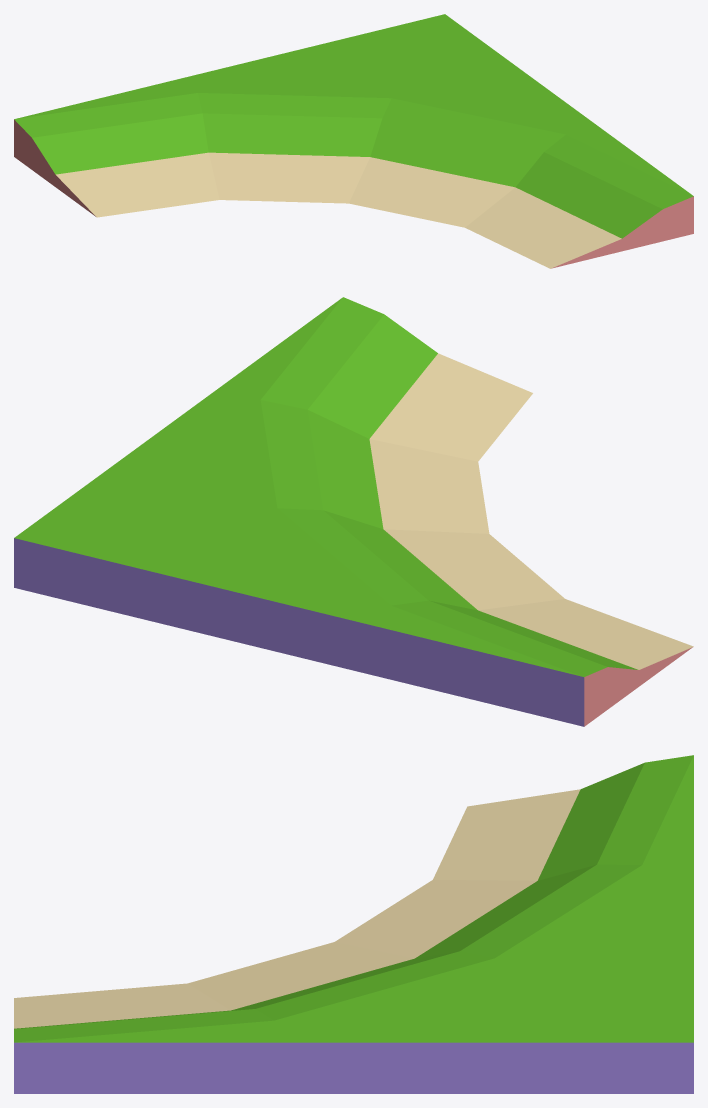
The model's file is Path_Terrain_Basic_Curve_Inner_3x3.glb.
The picture shows the model from 3 angles, top to bottom: view 1: azimuth 30°, elevation 25°; view 2: azimuth 150°, elevation 25°; view 3: azimuth 270°, elevation 25°; orthographic projection. The views are drawn at different scales.
Visible parts, largest first — view 1: Path_Terrain_Basic_Curve_Inner_3x3; view 2: Path_Terrain_Basic_Curve_Inner_3x3; view 3: Path_Terrain_Basic_Curve_Inner_3x3.
Part boxes in pixels (left/top/right/bottom): Path_Terrain_Basic_Curve_Inner_3x3: left=14, top=14, right=693, bottom=268; Path_Terrain_Basic_Curve_Inner_3x3: left=14, top=297, right=693, bottom=726; Path_Terrain_Basic_Curve_Inner_3x3: left=14, top=755, right=693, bottom=1093.
Size of the model in its own units: 300 by 25 by 300.
